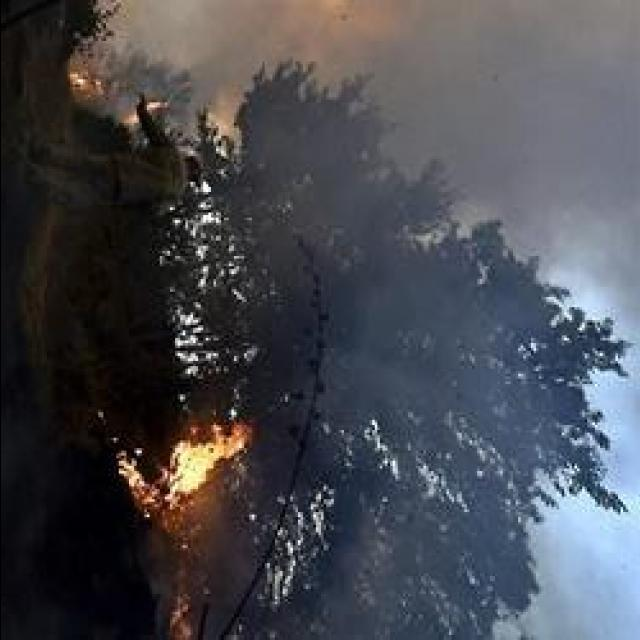fire: (167, 425, 244, 502)
smoke: (395, 2, 639, 175), (509, 102, 635, 252), (113, 0, 261, 92), (538, 579, 632, 640)
